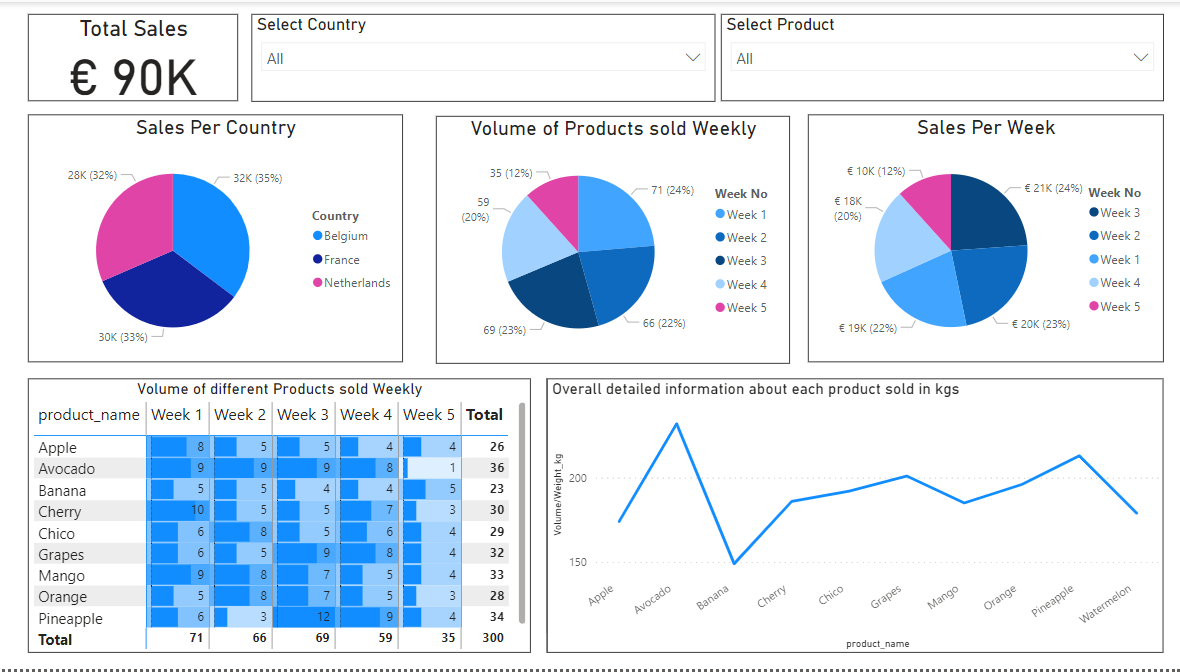

This screenshot's page, from the dashboard's own definition file:
{"tool":"powerbi","page":{"name":"Page 1","canvas":[1280,720],"ordinal":0},"visuals":[{"type":"slicer","title":"Select Country","fields":{"Values":["Master Sales Table.Country"]},"box":[274.4,12.3,500.9,94.7],"z":0},{"type":"pivotTable","title":"Volume of different Products sold Weekly","fields":{"Rows":["Master_Sales_Table.product_name"],"Columns":["Master_Sales_Table.Week No"],"Values":["CountNonNull(Master_Sales_Table.order_id)"]},"box":[32.9,406.2,542,314.2],"z":1000},{"type":"card","title":"Total Sales","fields":{"Values":["Master_Sales_Table.Total Sales"]},"box":[32.8,12.8,226.6,94.1],"z":2000},{"type":"pieChart","title":"Sales Per Country","fields":{"Category":["Master_Sales_Table.Country"],"Y":["Sum(Master_Sales_Table.Sales_Amount)"]},"box":[32.9,138.6,404.8,267.6],"z":3000},{"type":"pieChart","title":"Volume of Products sold Weekly","fields":{"Category":["Master_Sales_Table.Week No"],"Y":["CountNonNull(Master_Sales_Table.order_id)"]},"box":[478.9,138.6,382.8,267.6],"z":5000},{"type":"pieChart","title":"Sales per week ","fields":{"Y":["Master_Sales_Table.Total Sales"],"Category":["Master_Sales_Table.Week No"]},"box":[882.3,138.6,384.2,267.6],"z":6000},{"type":"pivotTable","title":"Overall detailed information about each sales record ","fields":{"Rows":["Master_Sales_Table.date"],"Columns":["Master_Sales_Table.product_name"],"Values":["Sum(Master_Sales_Table.weight_kg)","Master_Sales_Table.Total Sales"]},"box":[587.3,407.5,693,312.9],"z":6001}]}

Visuals, with their boxes in screenshot pixels (x1, y1, x2, y2), scaled from the page's 1280x720 canvas onto the 1180x672 screenshot:
"Select Country" slicer: rect(253, 11, 715, 100)
"Volume of different Products sold Weekly" pivotTable: rect(30, 379, 530, 671)
"Total Sales" card: rect(30, 12, 239, 100)
"Sales Per Country" pieChart: rect(30, 129, 404, 379)
"Volume of Products sold Weekly" pieChart: rect(441, 129, 794, 379)
"Sales per week " pieChart: rect(813, 129, 1168, 379)
"Overall detailed information about each sales record " pivotTable: rect(541, 380, 1179, 671)
